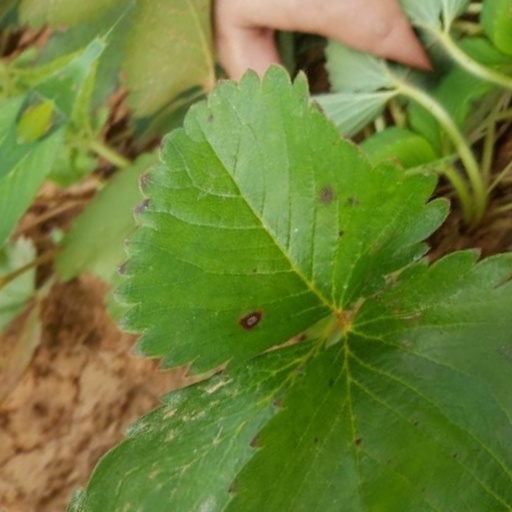Leaf Spot: (108, 100, 389, 435), (358, 0, 511, 427)
